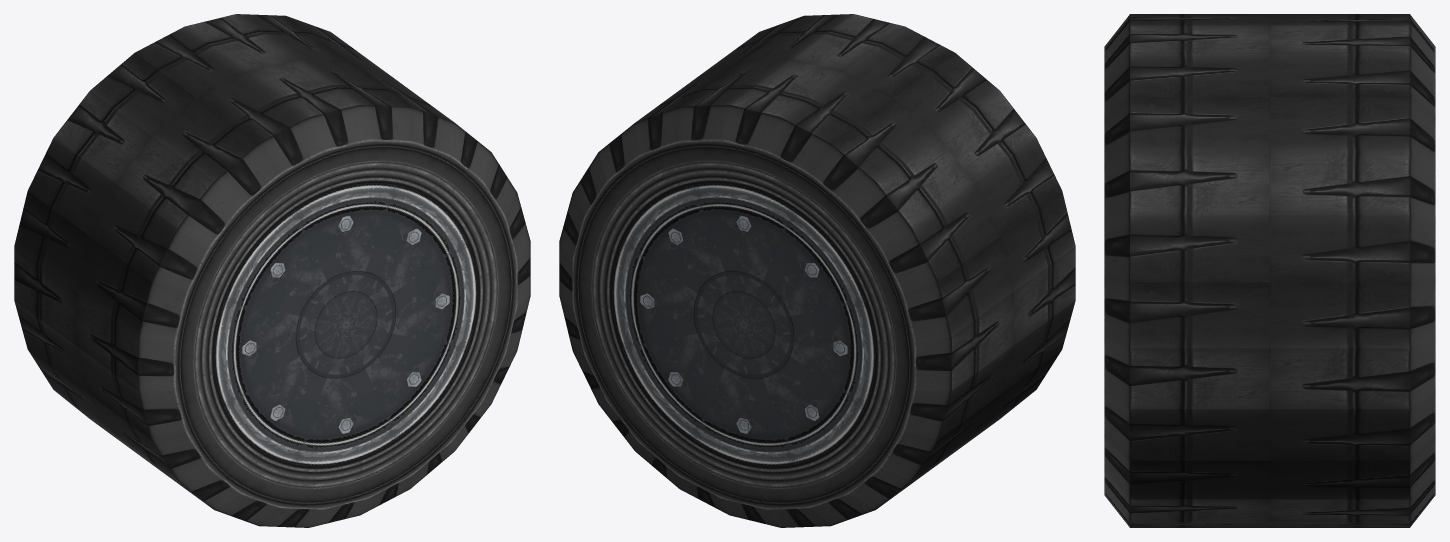
File: caster_wheel.dae
3 views of the same model, side by side, from view 1: azimuth 30°, elevation 25°; view 2: azimuth 150°, elevation 25°; view 3: azimuth 270°, elevation 25° (orthographic). The views are drawn at different scales.
Visible parts, largest first — view 1: node; view 2: node; view 3: node.
Boxes of the visible parts, x1,y1,x2,y2 form: node: (14, 14, 530, 527); node: (559, 14, 1075, 527); node: (1104, 14, 1435, 527).
Size of the model in its own units: 0.254 by 0.254 by 0.165.
Materials: 1 (1 with a texture image).
